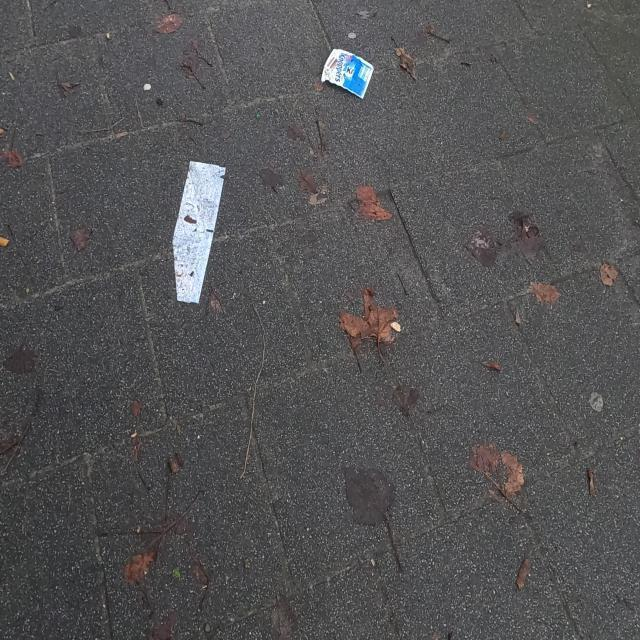Paper: (172, 156, 224, 310)
Plastic: (320, 46, 375, 100)
